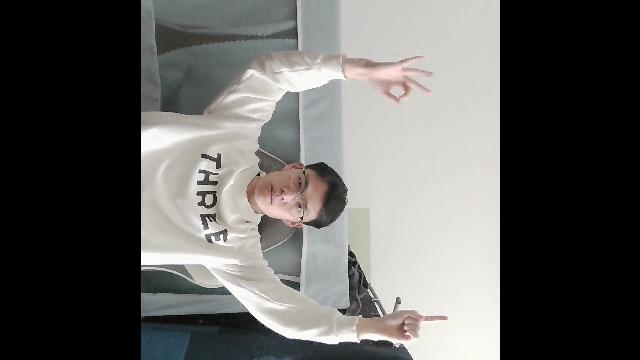ok: (366, 54, 436, 104)
one: (368, 307, 450, 346)
